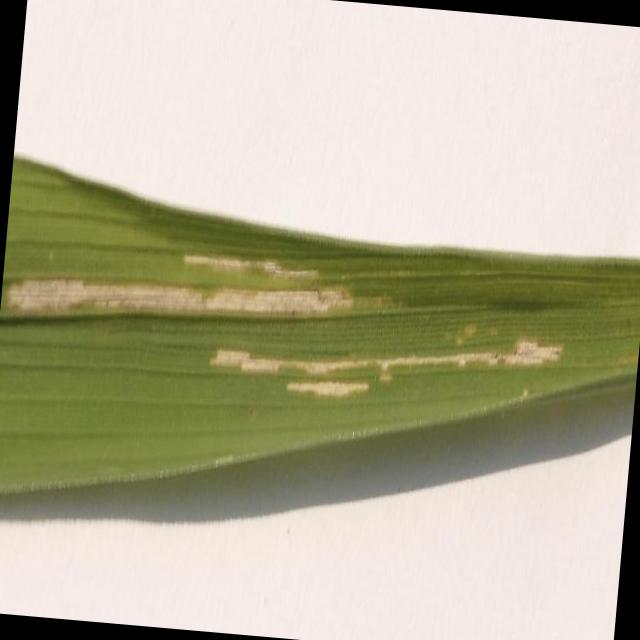Rice_Bacterial_Blight: (1, 203, 594, 450)
